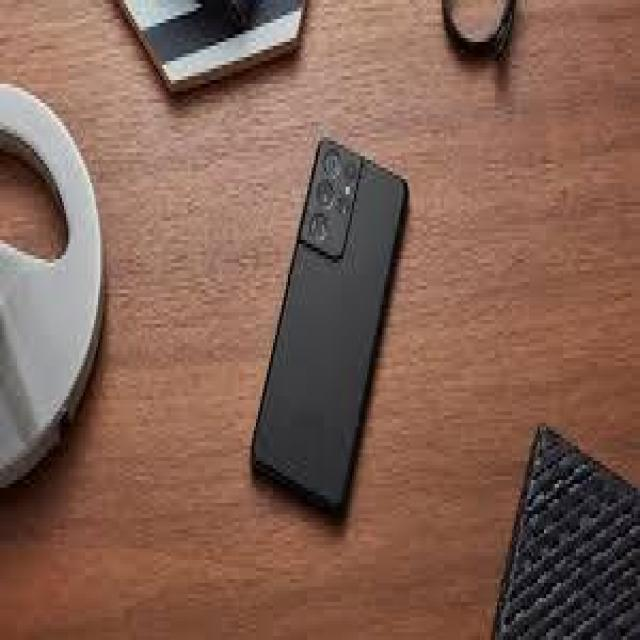Smartphone: (243, 115, 420, 537)
